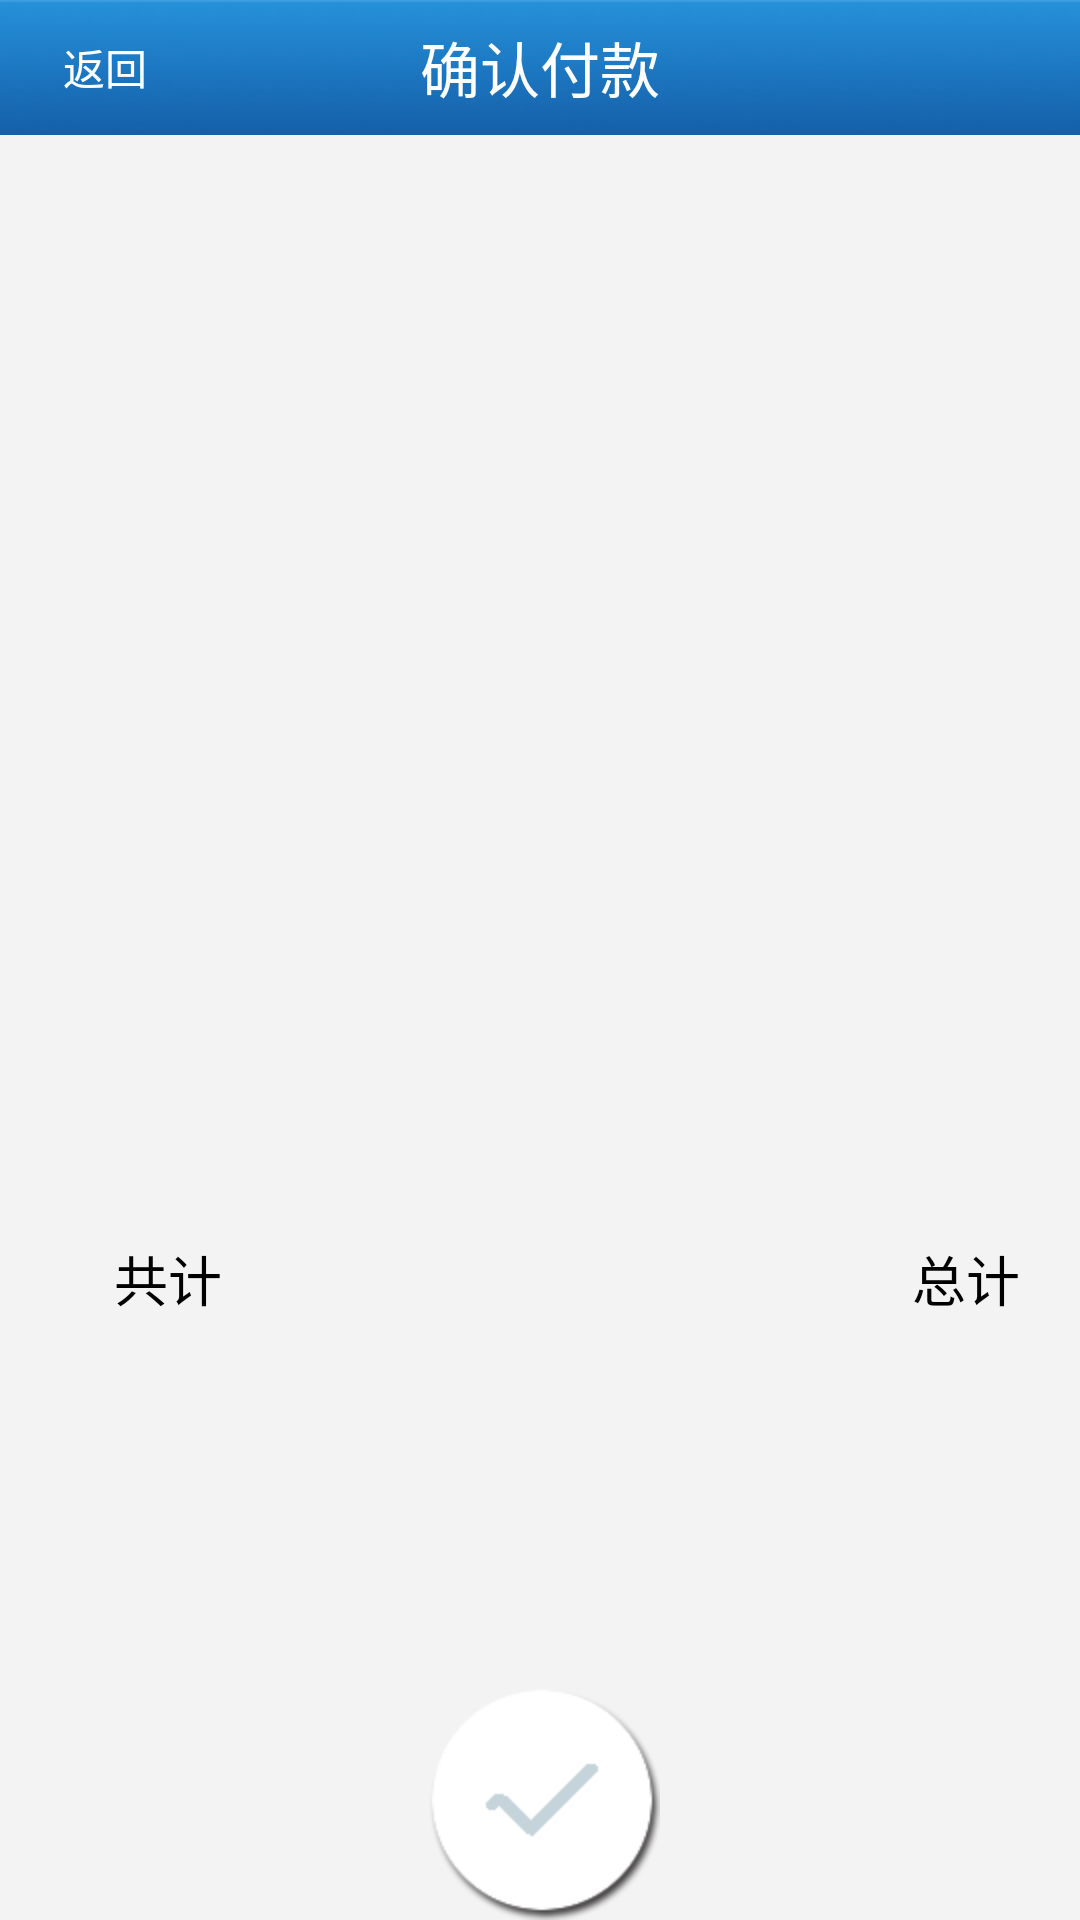

Icon click points for this 1080 x 1920 phone screenshot, format point (x, y):
tabs confirm: point (545, 1805)
